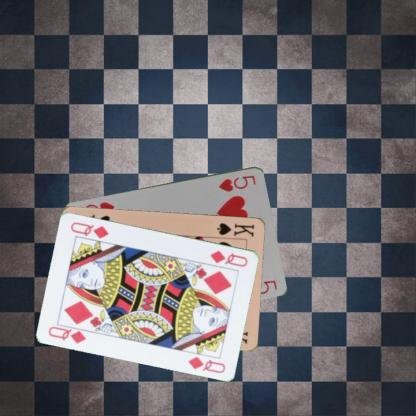5h: (216, 172, 257, 193)
Ks: (214, 220, 256, 238)
Qd: (46, 321, 92, 344), (207, 247, 249, 268)
